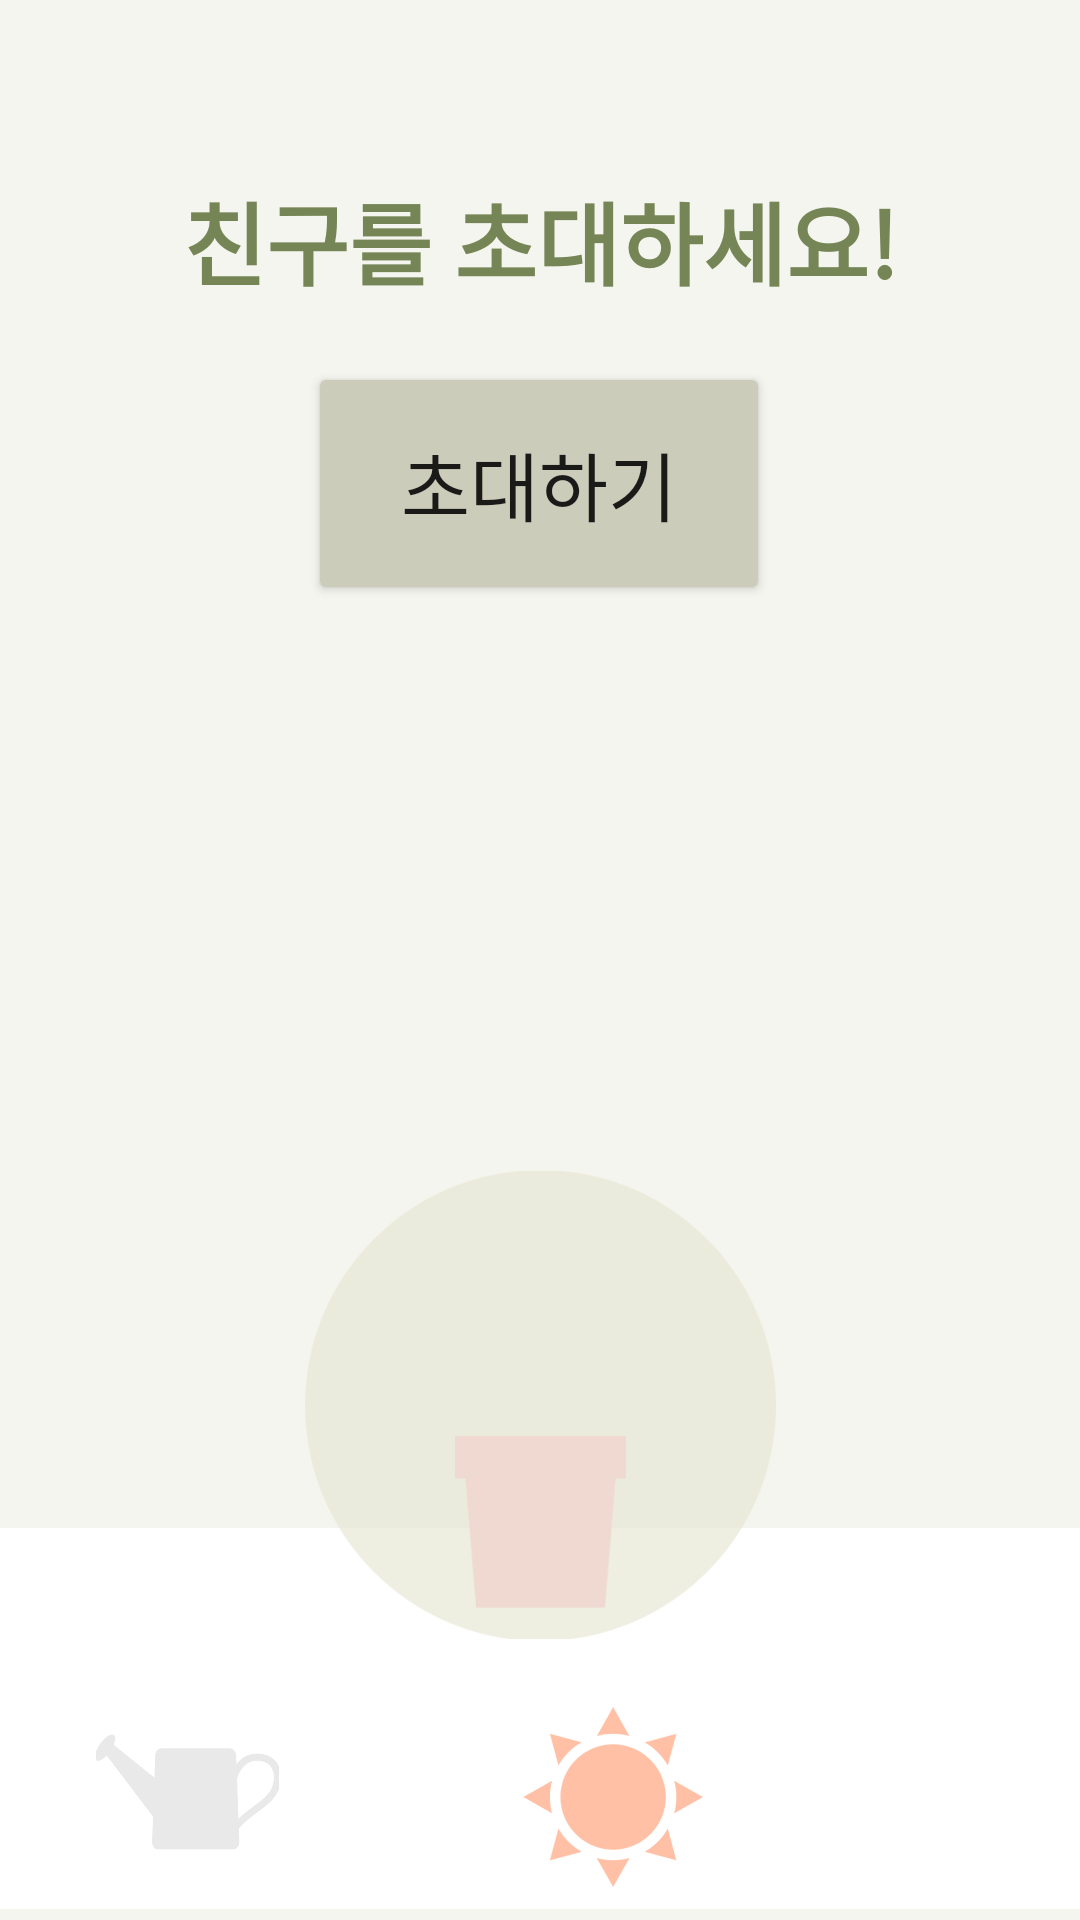

Named icons in this screenshot (1080px x 1920px) and their bounding boxes, (x1, y1, x2, y2):
pot: (455, 1436, 626, 1608)
sun: (524, 1707, 703, 1887)
